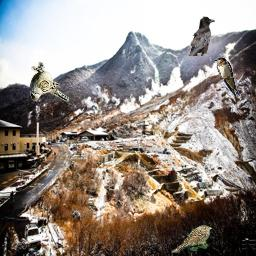Crow: (188, 16, 215, 56)
Sparrow: (30, 62, 69, 102), (172, 225, 212, 253)
Swallow: (214, 57, 240, 97)
